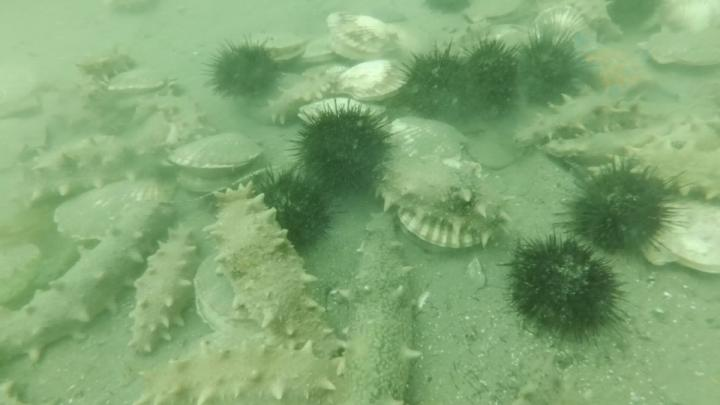echinus: (501, 230, 632, 349), (561, 158, 690, 259), (292, 100, 392, 198), (245, 165, 334, 255), (396, 44, 472, 119), (512, 32, 591, 104), (204, 34, 281, 104), (459, 35, 525, 111), (608, 1, 660, 31), (424, 1, 476, 19)
holothurian: (2, 208, 155, 366), (207, 182, 325, 336), (333, 228, 424, 405), (135, 338, 340, 405), (373, 159, 520, 237), (126, 221, 201, 359), (585, 142, 720, 201), (510, 90, 641, 150), (508, 350, 634, 405), (542, 123, 673, 168), (21, 168, 160, 206), (28, 134, 138, 178), (264, 70, 345, 127), (142, 89, 208, 144), (569, 1, 627, 43), (76, 47, 141, 83)
scallop: (52, 175, 180, 247), (641, 198, 720, 280), (172, 131, 264, 200), (192, 248, 254, 341), (395, 205, 498, 250), (324, 10, 407, 63), (329, 59, 413, 104), (642, 21, 720, 69), (385, 117, 470, 160), (1, 54, 45, 120), (299, 97, 391, 128), (1, 119, 52, 174), (638, 1, 720, 34), (533, 5, 592, 45), (237, 32, 310, 64), (463, 1, 536, 29), (104, 68, 168, 96), (296, 34, 341, 64)
starfish: (570, 34, 685, 106)
